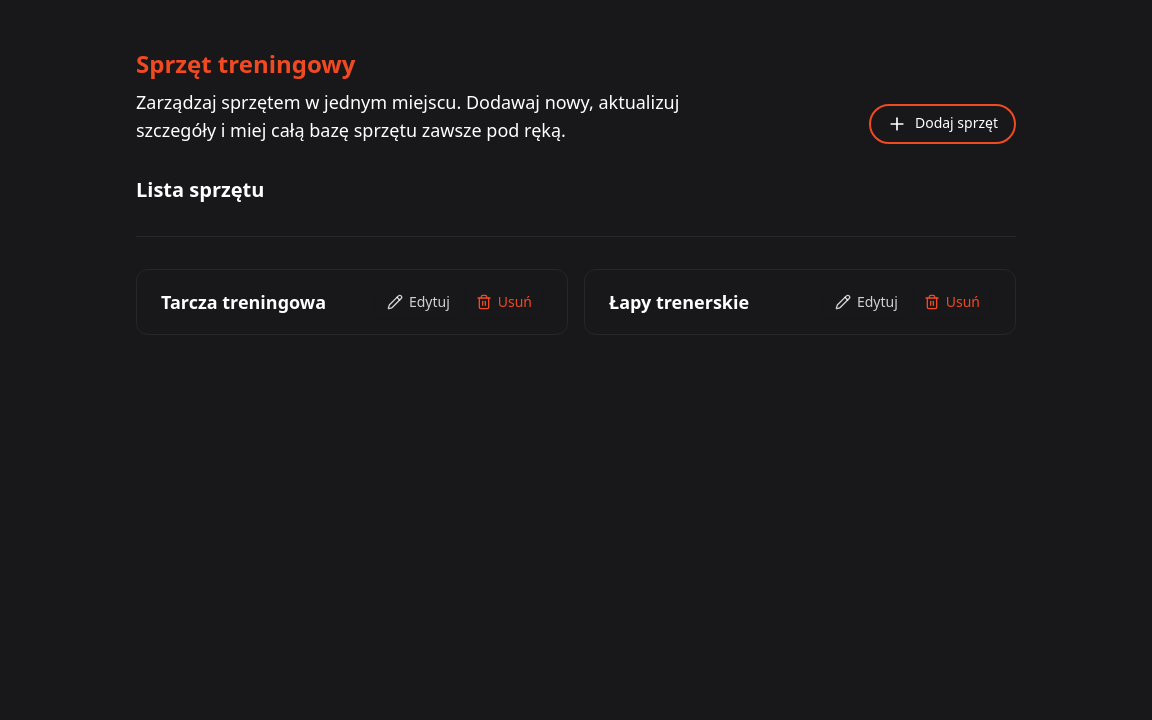
Test case: EquipmentListPage › opens a prefilled edit dialog
The image size is (1152, 720).
Click the button "Edytuj" next to "Łapy trenerskie": (866, 302) [824,286,909,318]
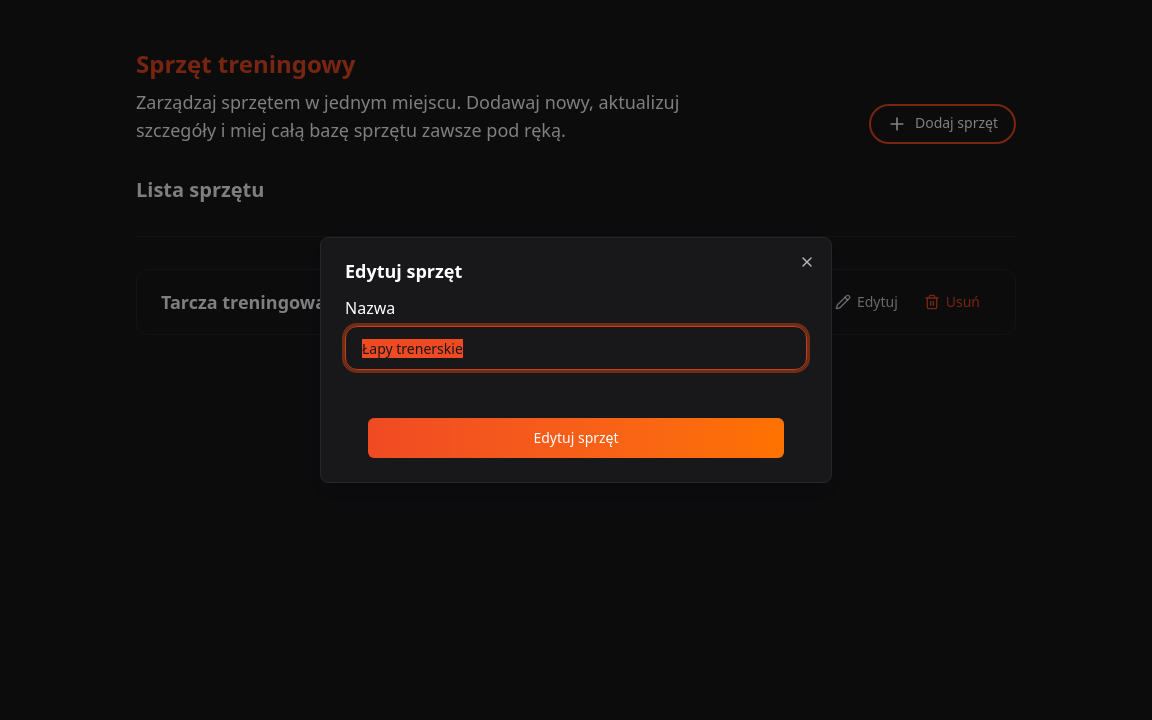
expect the heading "Edytuj sprzęt" is shown: met, box [345,259,462,283]
expect the field labelled "Nazwa" holds "Łapy trenerskie": met, box [345,326,807,370]
